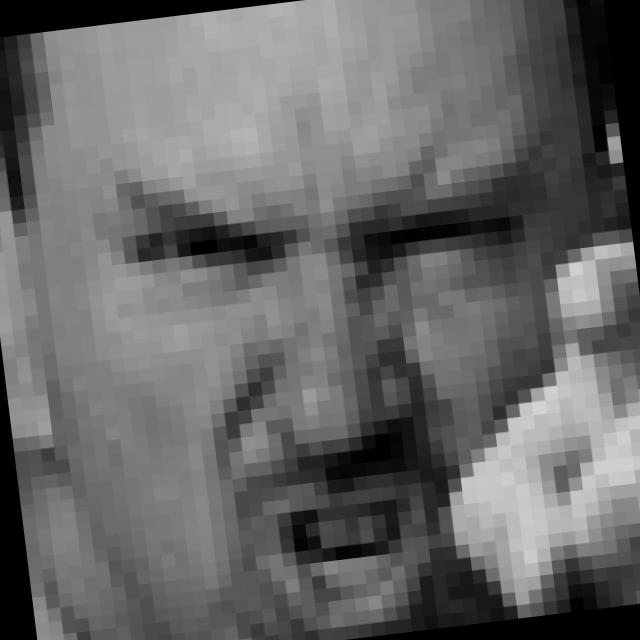angry: (100, 131, 577, 640)
